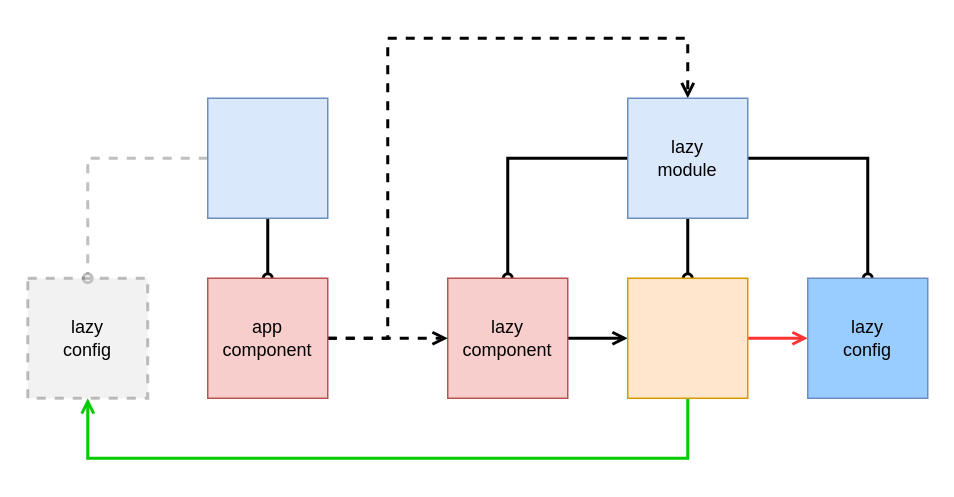
Some shapes in this 954 by 497 pixel diagram are drawn without their labels. The centre of each missing label's shape, as x and y in pixels:
app module: [267,157]
lazy service: [687,337]
